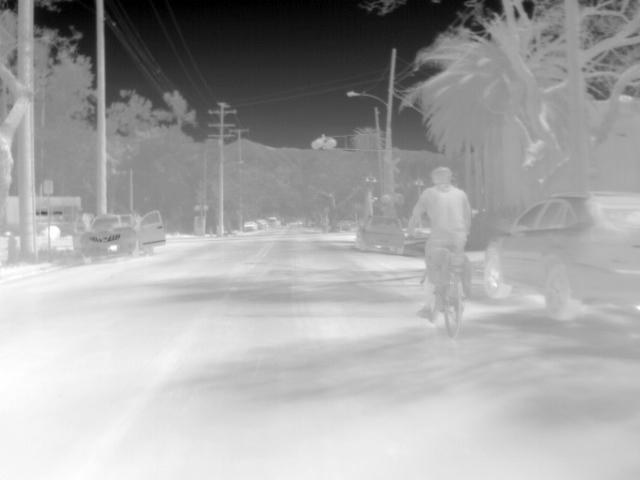car: (483, 188, 638, 324), (81, 207, 168, 262), (355, 212, 404, 256), (241, 218, 257, 232)
person: (406, 165, 475, 323), (80, 211, 97, 235)
